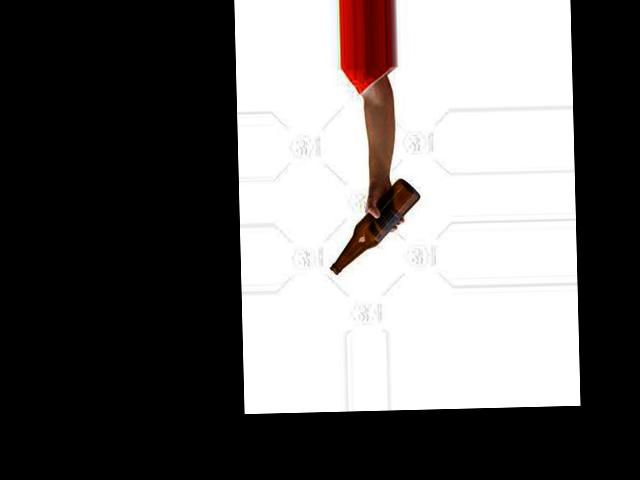beer: (328, 178, 422, 274)
